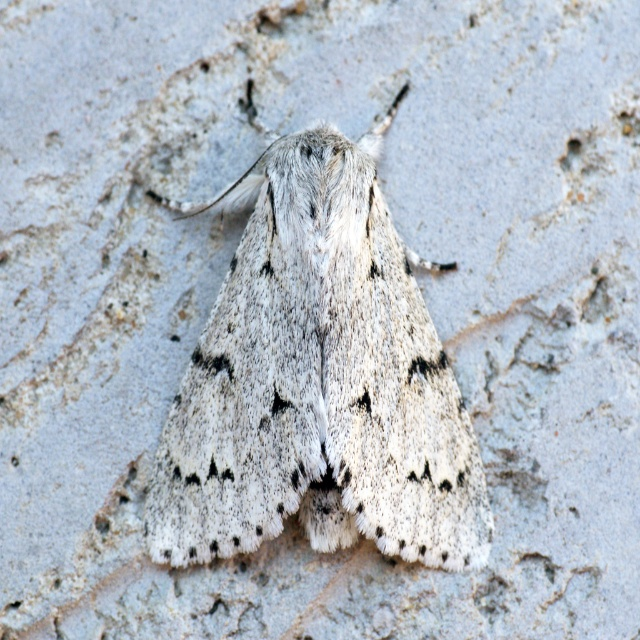Moths and butterflies: (145, 76, 500, 574)
